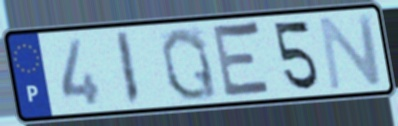4: (57, 36, 104, 108)
5: (271, 20, 322, 93)
E: (210, 19, 275, 101)
I: (113, 29, 143, 108)
N: (316, 11, 386, 93)
Q: (158, 25, 221, 103)
